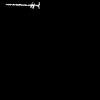treble_crochet: (6, 4, 39, 7)
